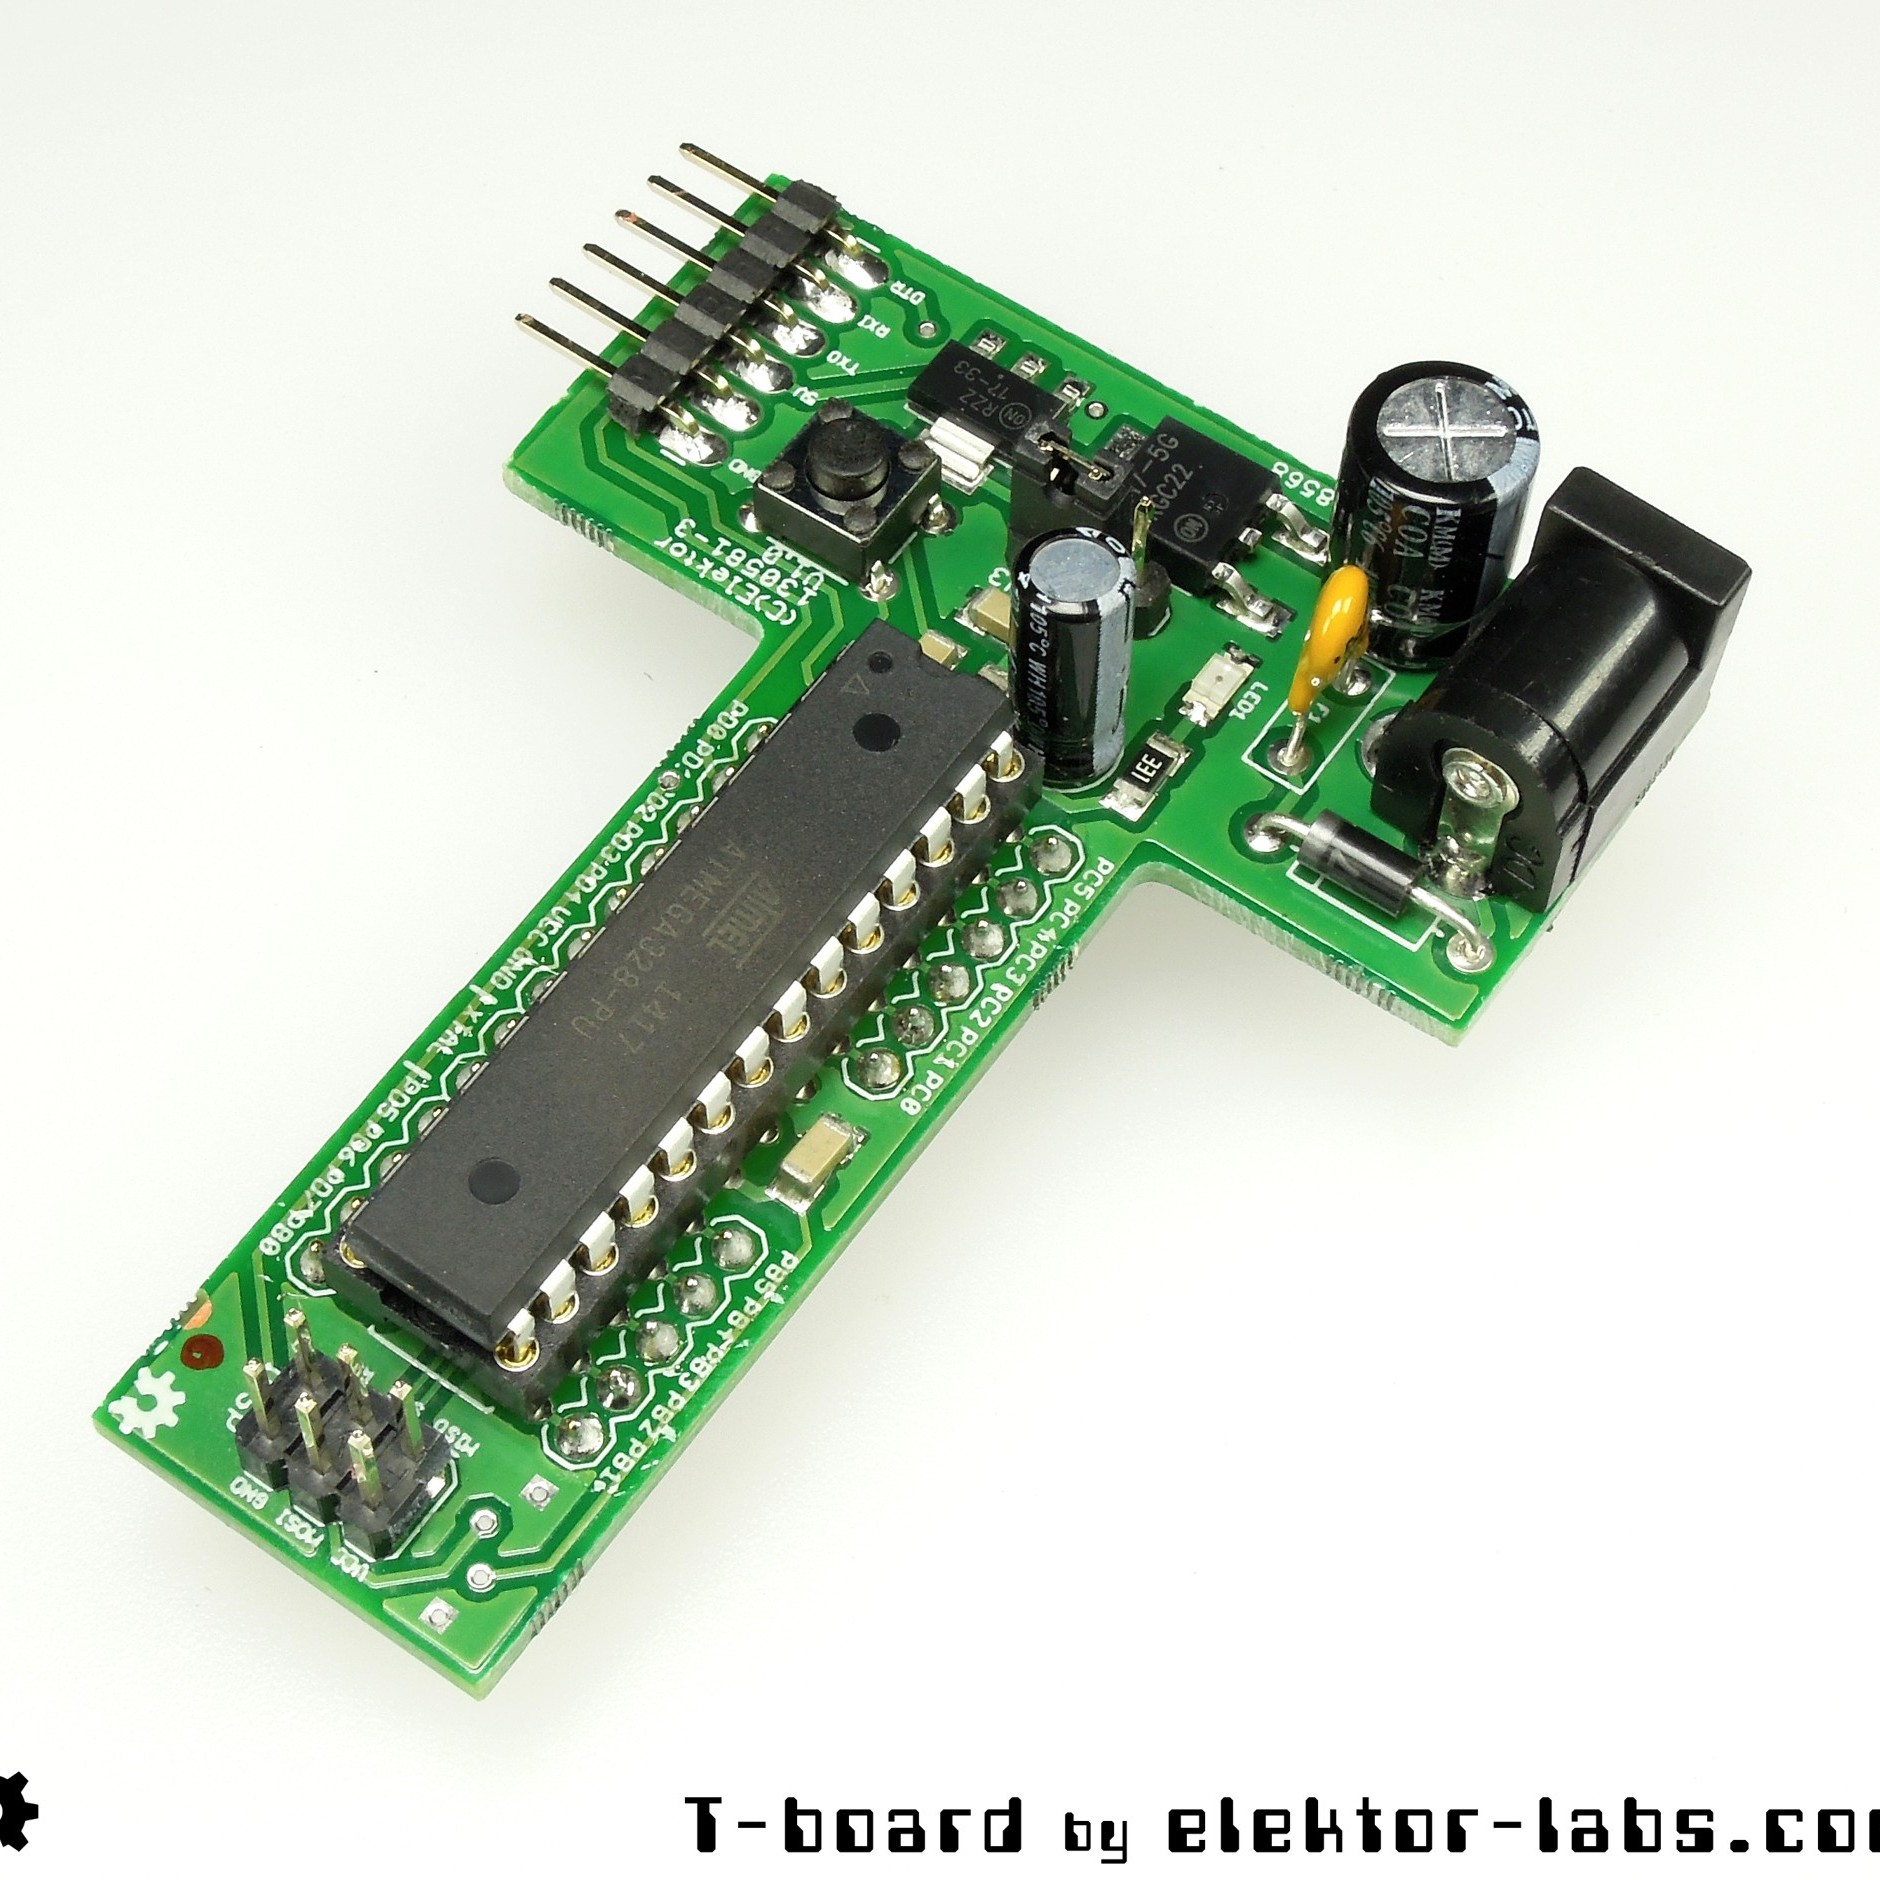Capacitor: (1327, 360, 1539, 671), (1011, 522, 1135, 790)
Diode: (1288, 801, 1438, 923)
